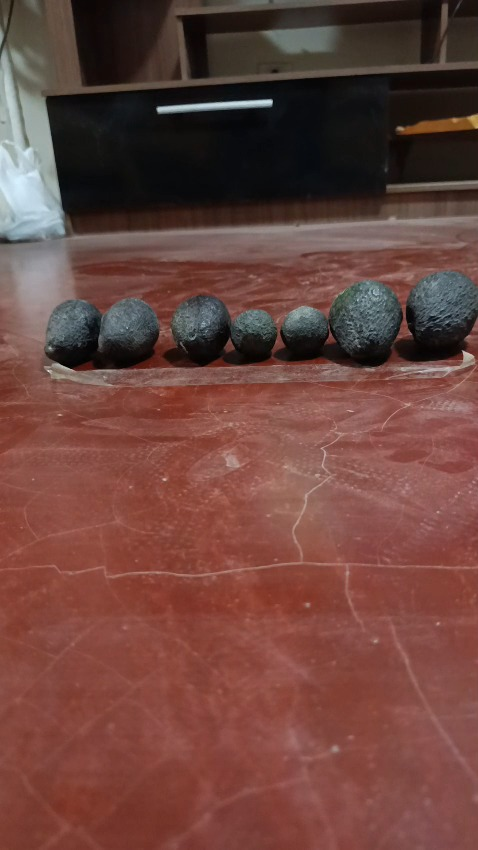Primera: (329, 279, 403, 363), (405, 269, 478, 353)
Segunda: (97, 296, 159, 365), (171, 293, 231, 362), (44, 298, 102, 367)
Tercera: (280, 306, 328, 357), (230, 309, 277, 358)
